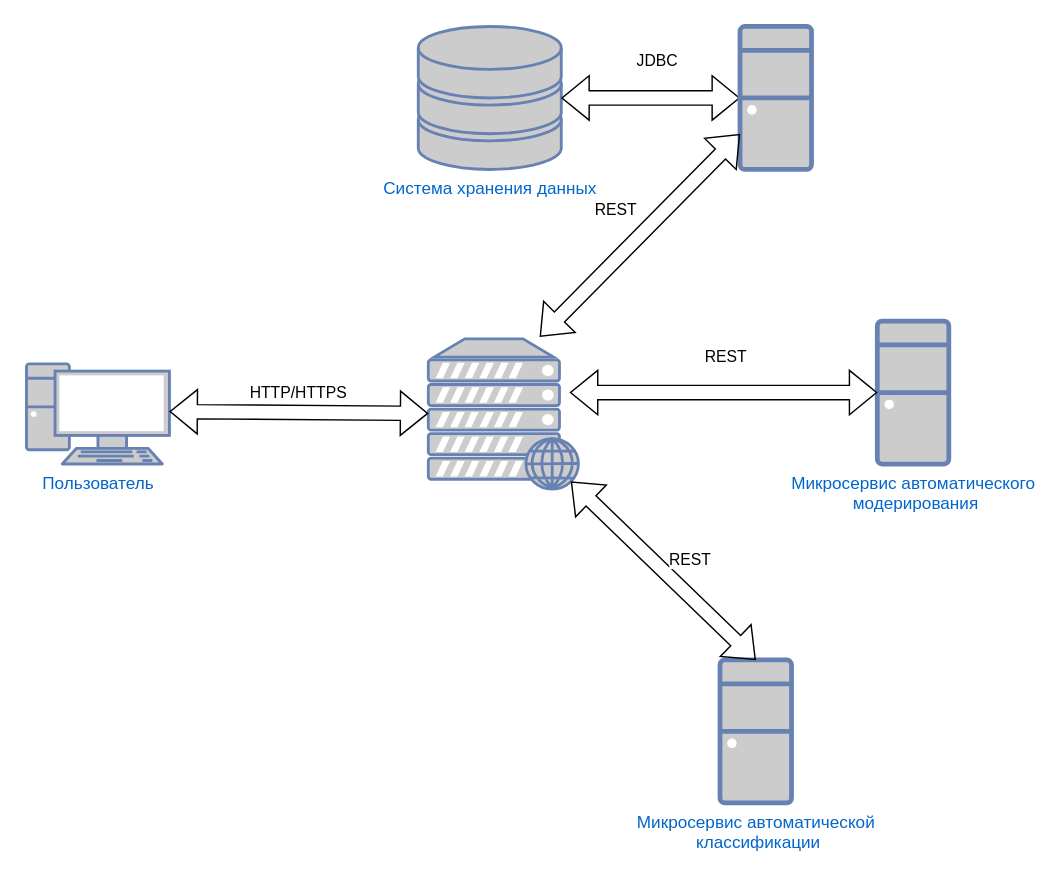
Some shapes in this 1060 by 878 pixel diagram are drawn without their labels. The shapes that lost their labels are listed below. From the top down, each one's centre as x and y in pixels, then its label:
At [775,97]: "Микросервис доступа к системе хранения данных".
At [502,413]: "WEB-Сервер".
